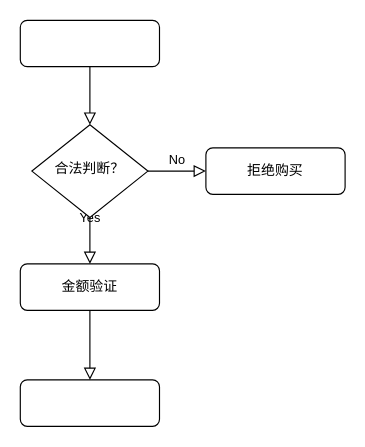
This 365x447 diagram has some shape labels left out. The shapes that lost their labels are listed below. From the top down, each one's box as (x1, y1, x2, y2) in pixels, then its label:
(19, 19, 160, 67): 购买
(19, 379, 160, 426): 购买成功
